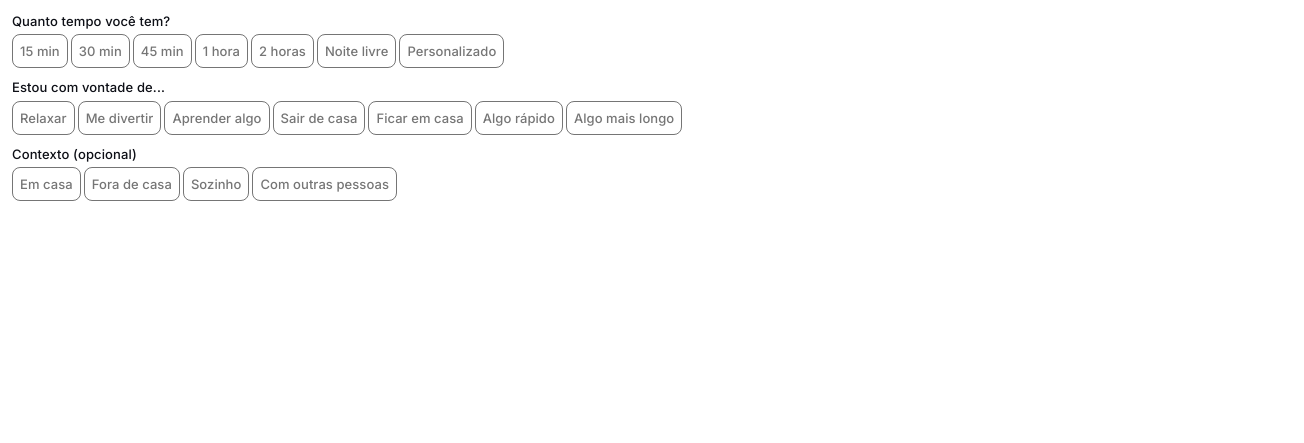
Test: TimeAvailabilitySuggester › with 30 minutes, suggests the podcast and video but not the 2h movie
The width and height of the screenshot is (1304, 443).
Click the button "30 min" at [100, 51], box x1=71 y1=34 x2=130 y2=68
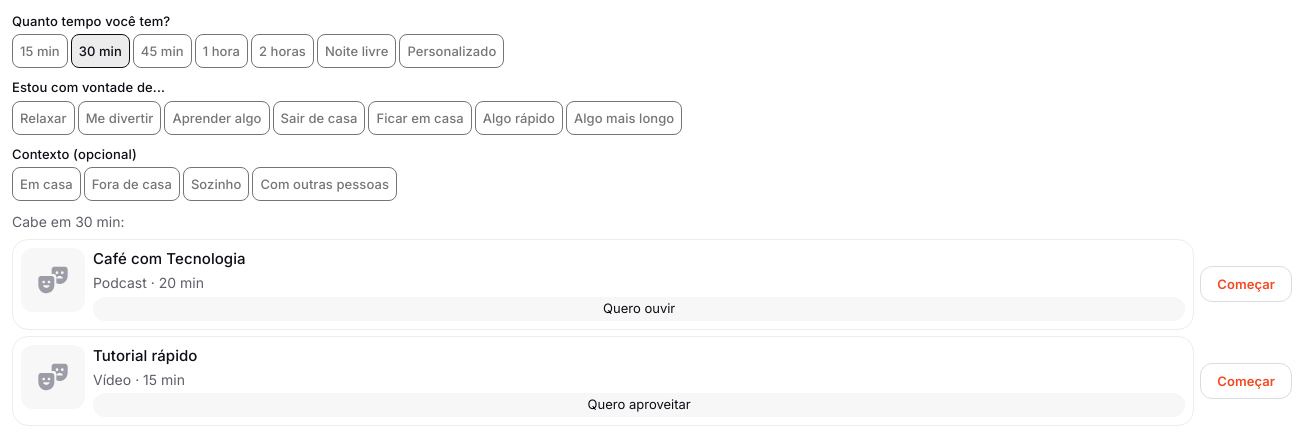
Check: the text "Café com Tecnologia" is shown, box x1=93 y1=248 x2=246 y2=269
Check: the text "Tutorial rápido" is shown, box x1=93 y1=344 x2=198 y2=366
